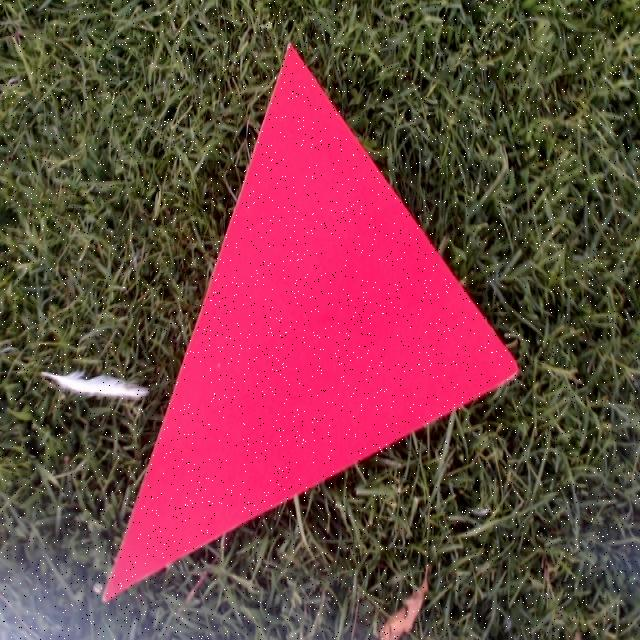red_triangle: (102, 43, 518, 602)
